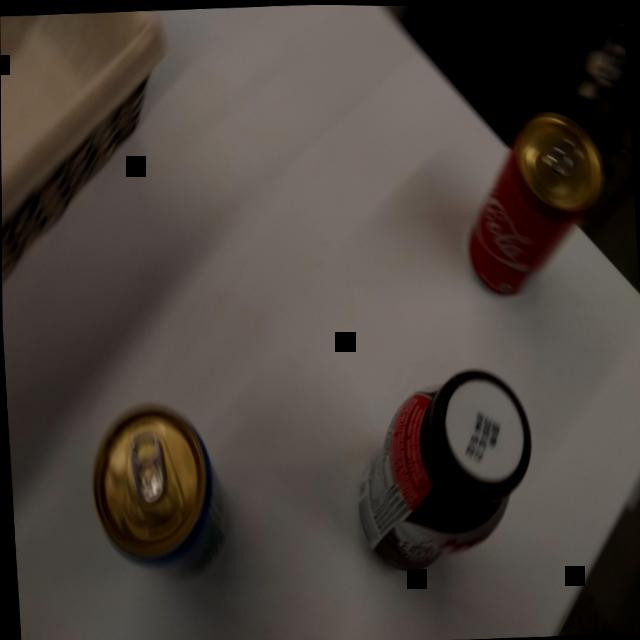chocolate_drink: (341, 356, 545, 582)
coke: (455, 105, 617, 301)
sprite: (79, 391, 240, 593)
